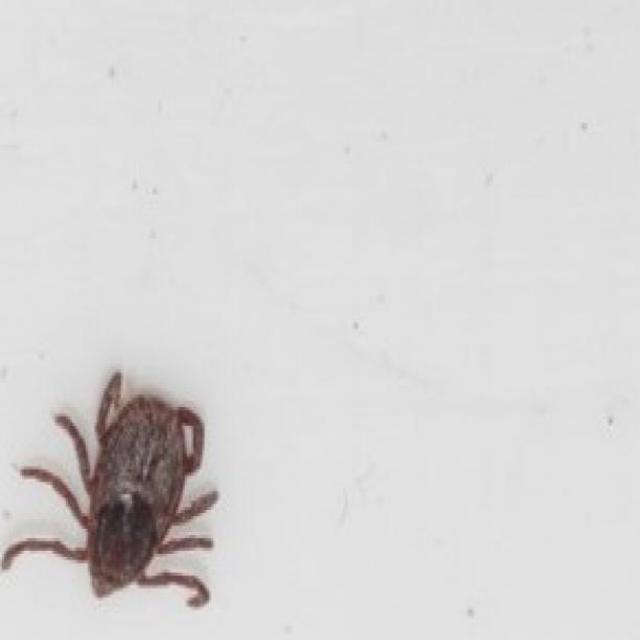Rhipicephalus Sanguineus-F: (0, 370, 218, 607)
